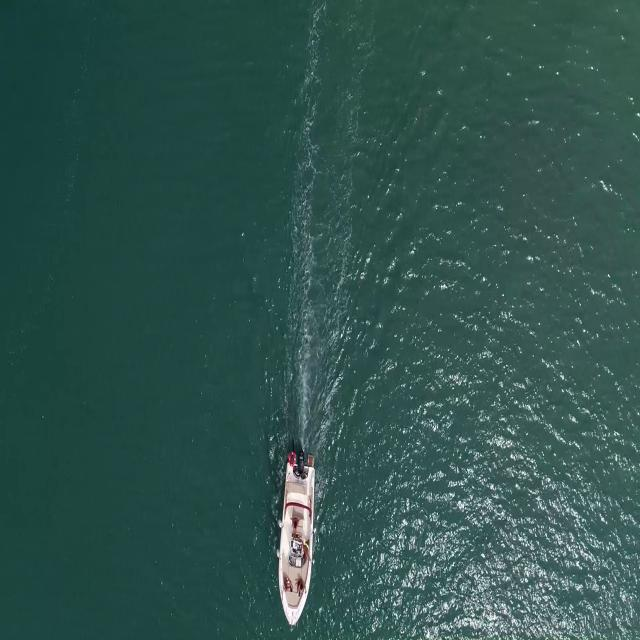boat: (276, 465, 317, 628)
life_buoy: (287, 451, 296, 464)
person: (281, 574, 294, 597), (301, 539, 312, 562), (291, 514, 301, 538), (296, 577, 306, 596)
